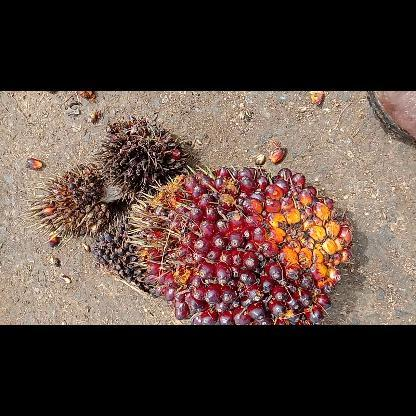TBS abnormal: (93, 117, 189, 200), (17, 163, 111, 247), (91, 209, 151, 294)
TBS masak: (123, 162, 357, 324)
